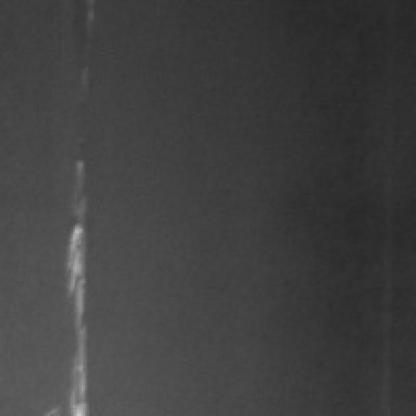scratches: (56, 156, 92, 414)
